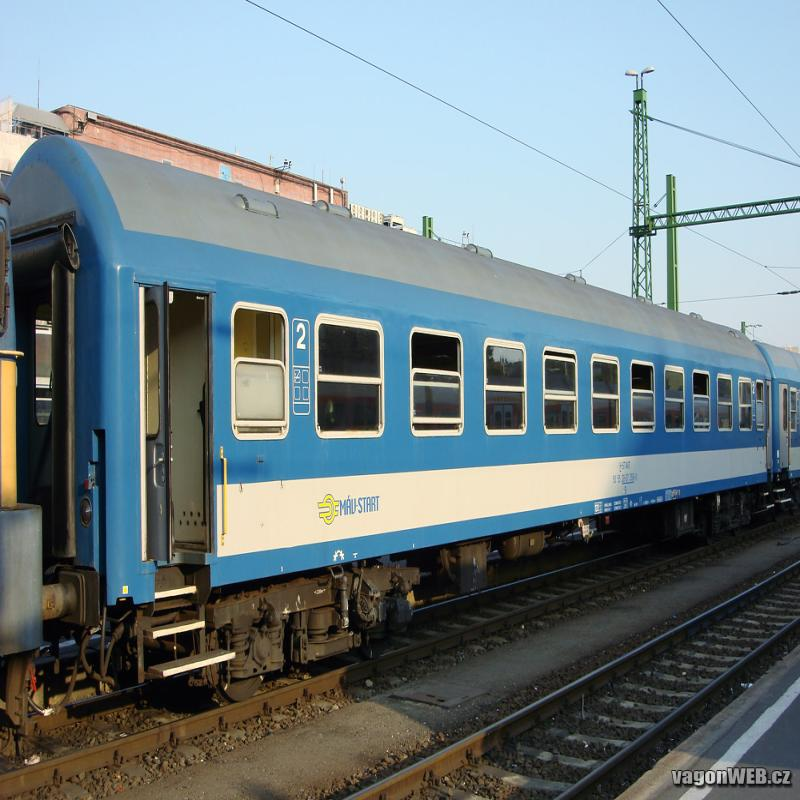train: (10, 136, 777, 718)
